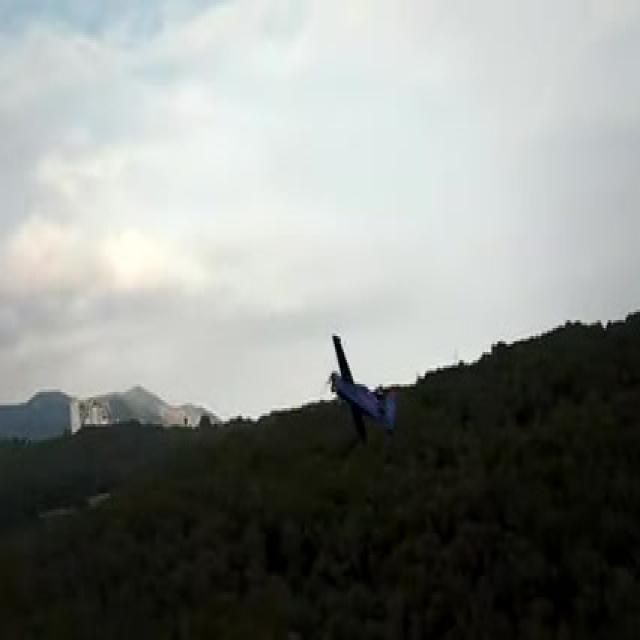iha: (360, 361, 364, 419)
